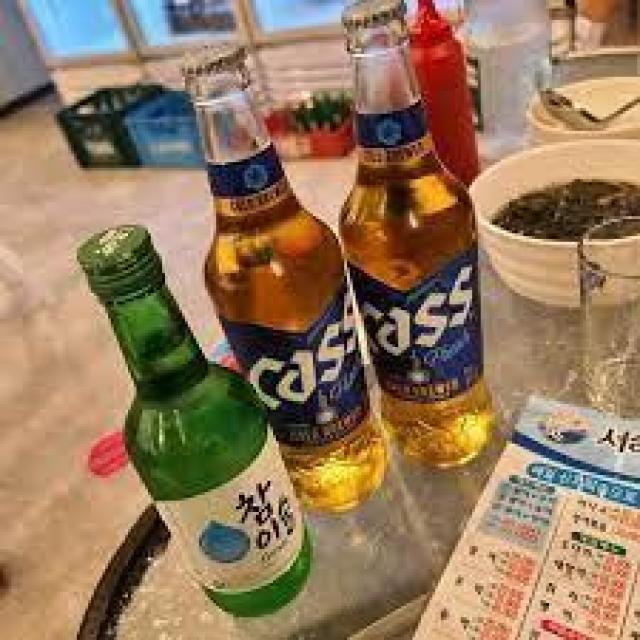beer-bottle: (178, 41, 394, 514), (332, 0, 500, 472)
soju-bottle: (74, 219, 316, 623)
